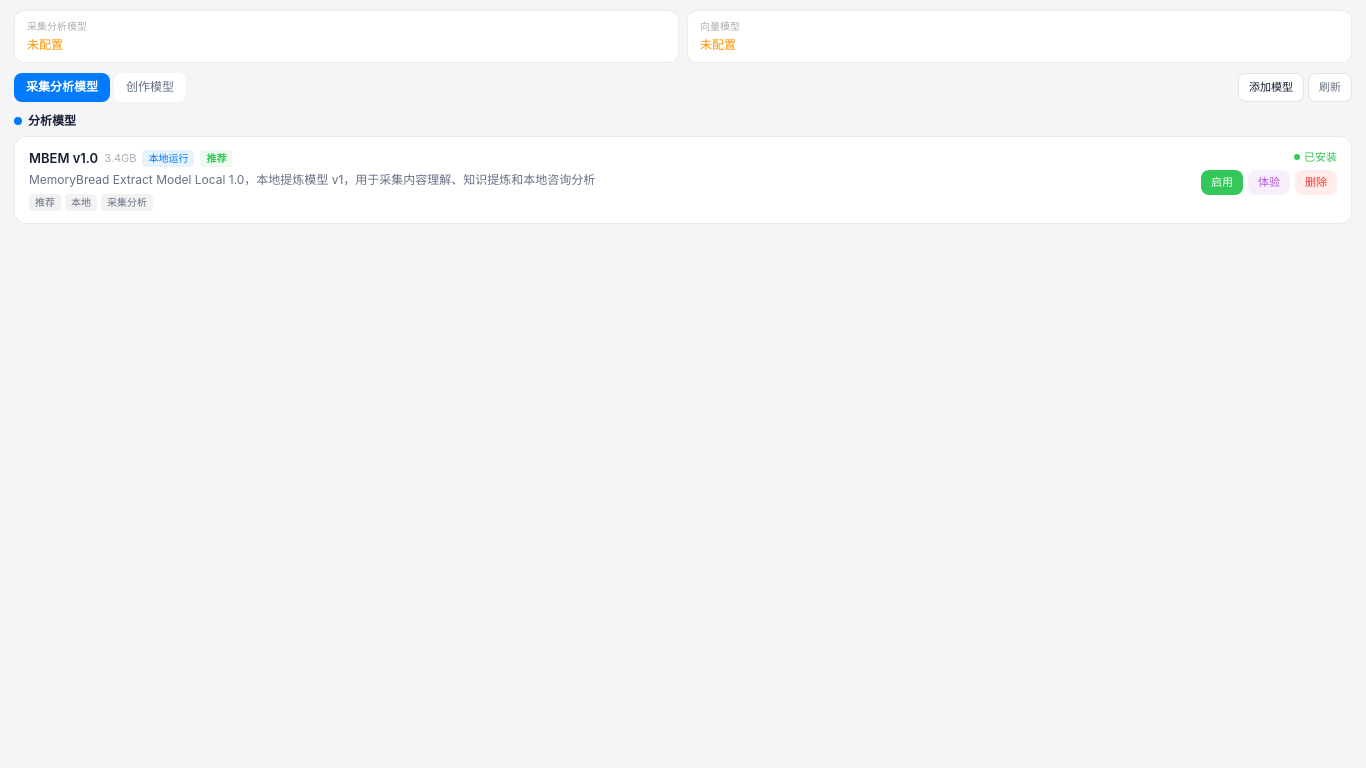
Test: 模型管理 › 采集分析中已安装的本地模型无需启用即可体验
This screenshot has width=1366, height=768.
Click the button "体验".
click(1269, 182)  # box [1248,170,1290,194]
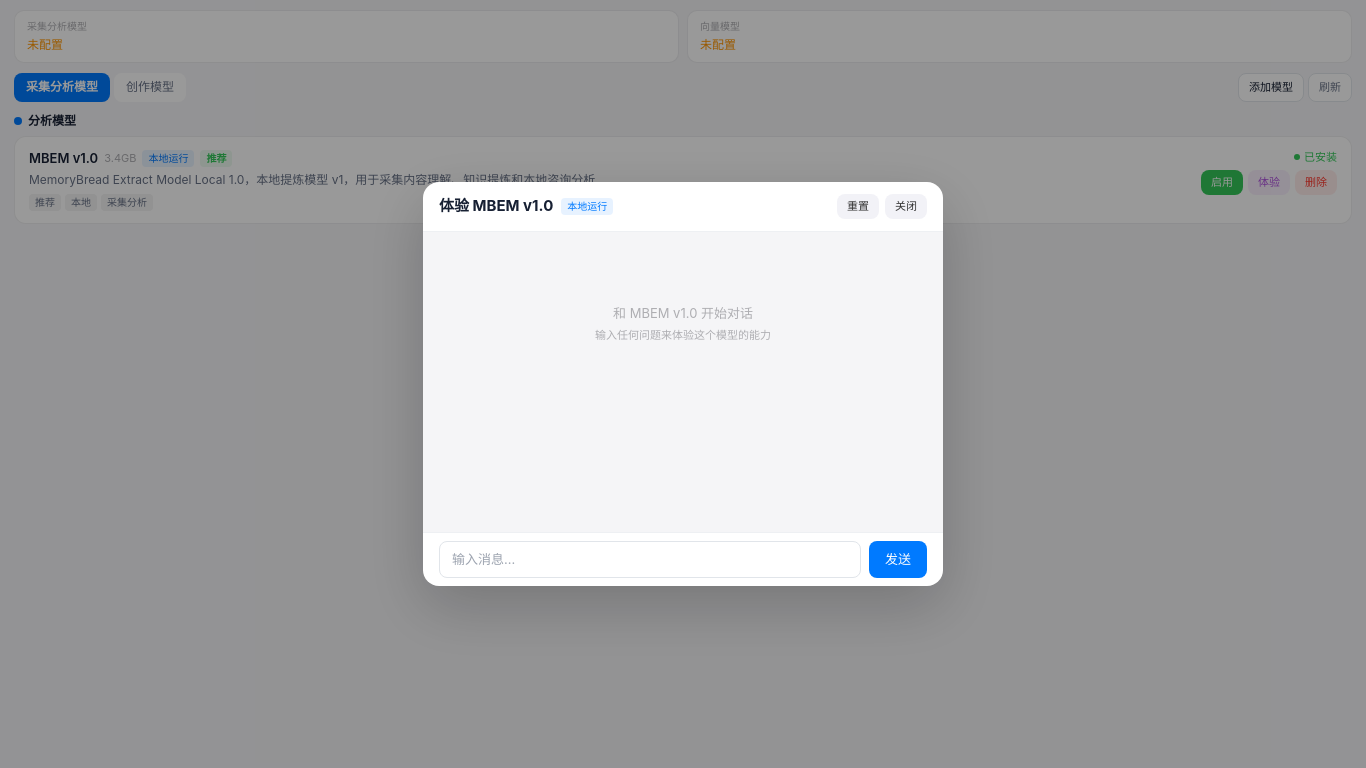
Type "你好" into the field with placeholder "输入消息...".
click(650, 559); type("你好")  # box [439,540,861,578]
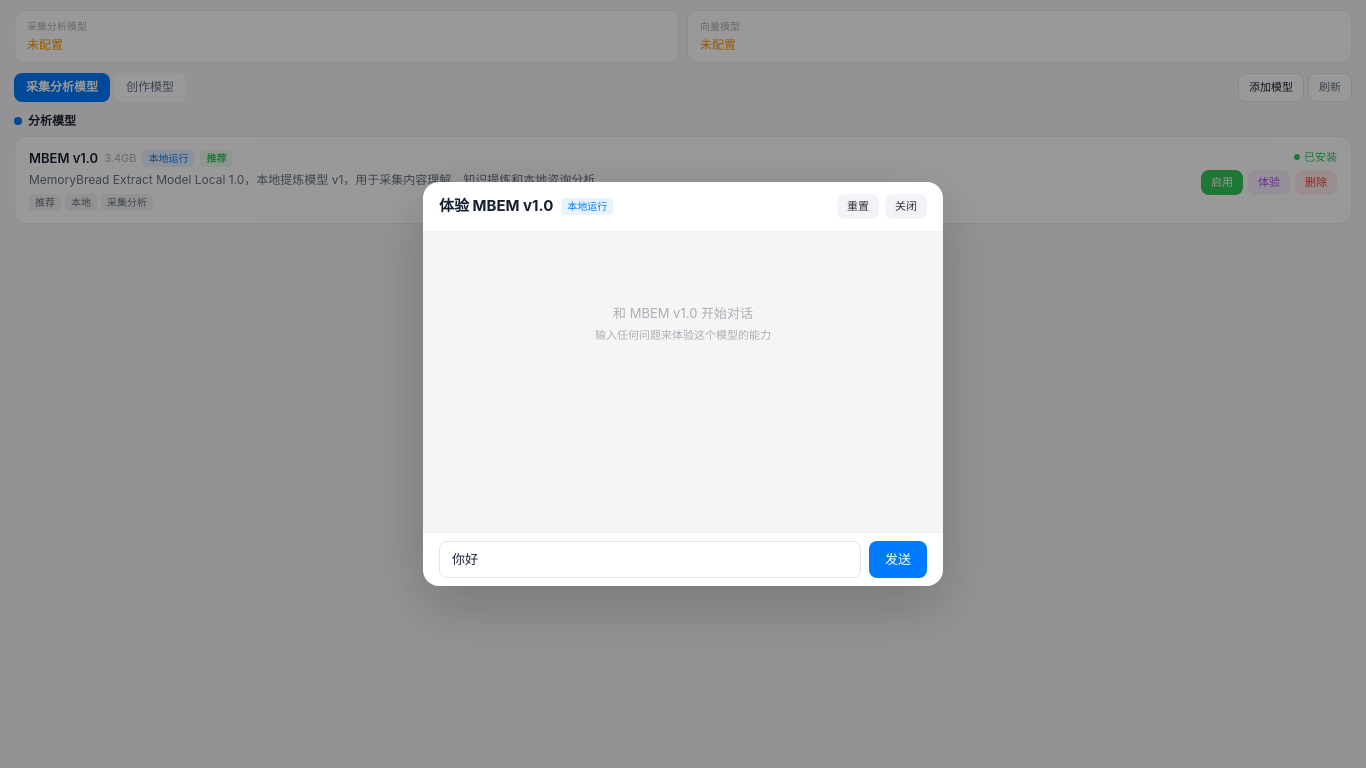
Click the button "发送".
click(898, 559)  # box [869,540,927,578]
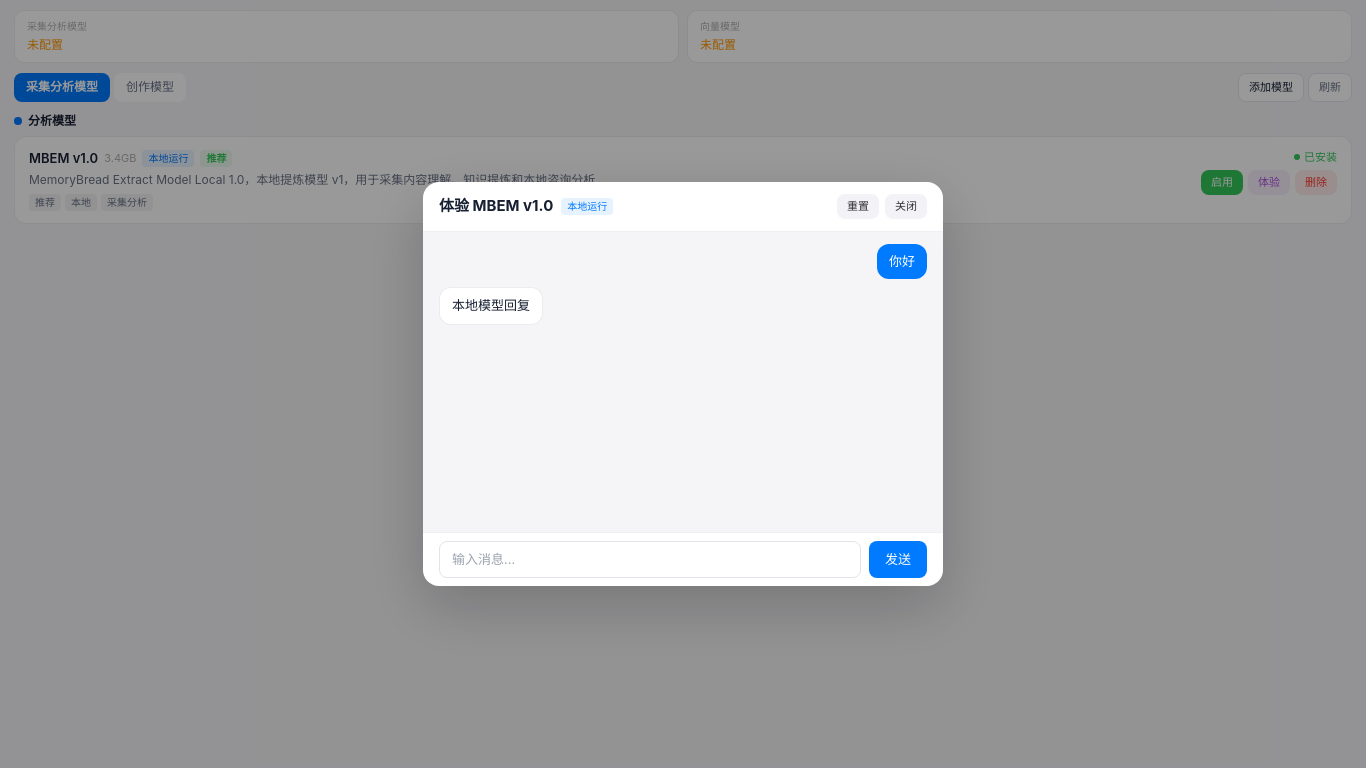
Expected: the text "本地模型回复" is shown, [439,287,543,324]
